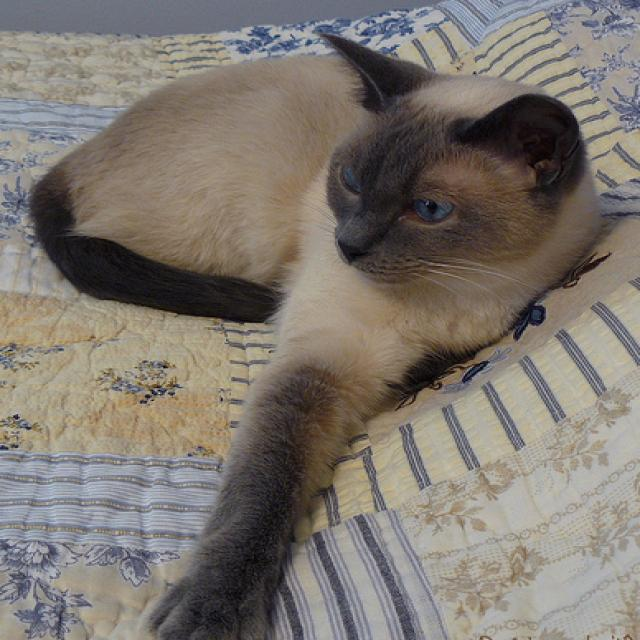Siamese: (23, 28, 604, 640)
